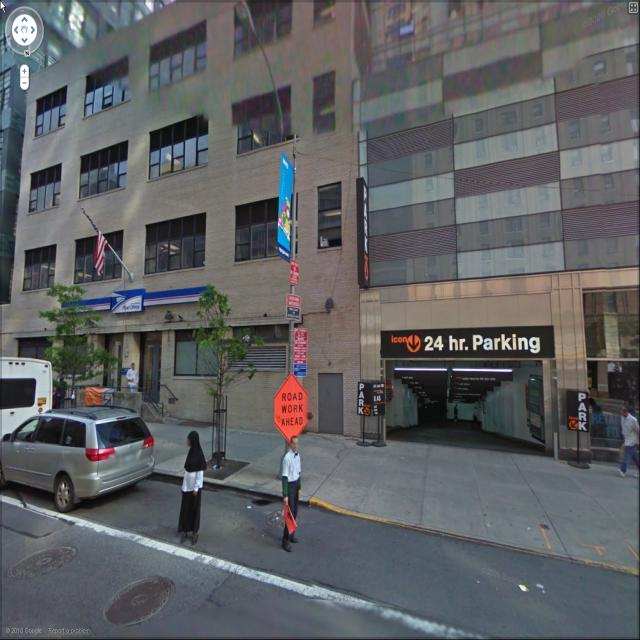b_1: (358, 15, 640, 393), (34, 62, 354, 378)
